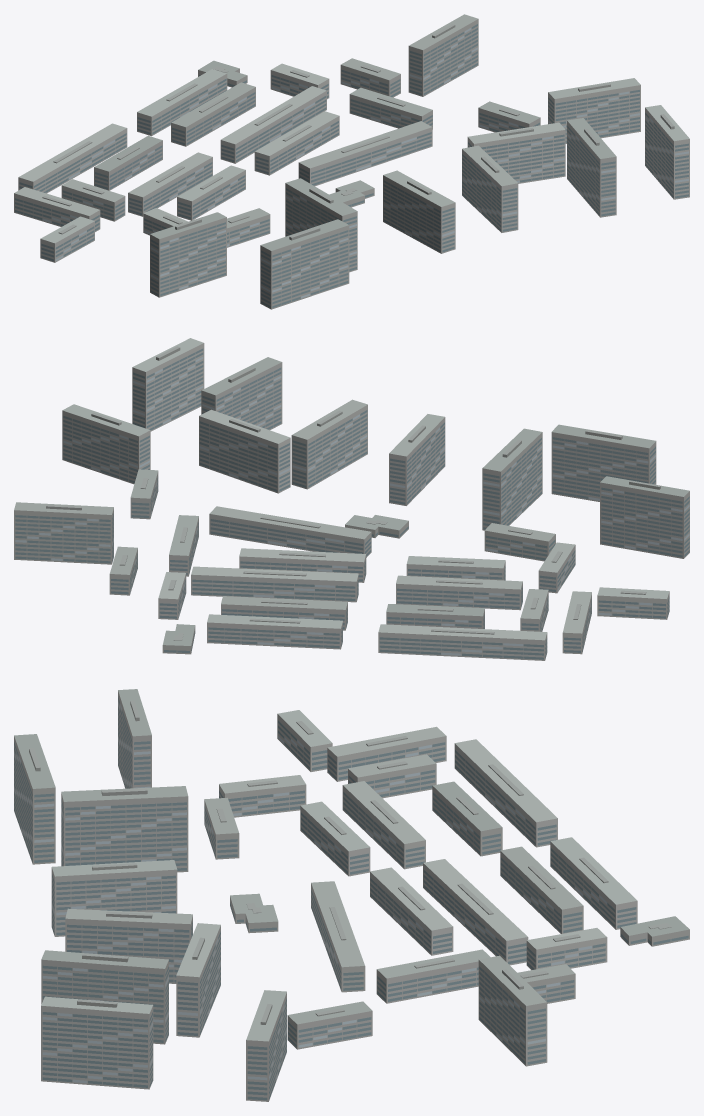
File: apt-a15805504.glb
3 renders of one model, top to bottom at view 1: azimuth 30°, elevation 25°; view 2: azimuth 150°, elevation 25°; view 3: azimuth 270°, elevation 25°, orthographic. The views are drawn at different scales.
Parts seen in each view (by area): view 1: apt-a15805504; view 2: apt-a15805504; view 3: apt-a15805504.
Part boxes in pixels (<box>): apt-a15805504: <box>14,14,689,309</box>; apt-a15805504: <box>14,338,689,660</box>; apt-a15805504: <box>14,689,689,1101</box>.
Bounding box in the file's own units: 476 × 47.81 × 371.
